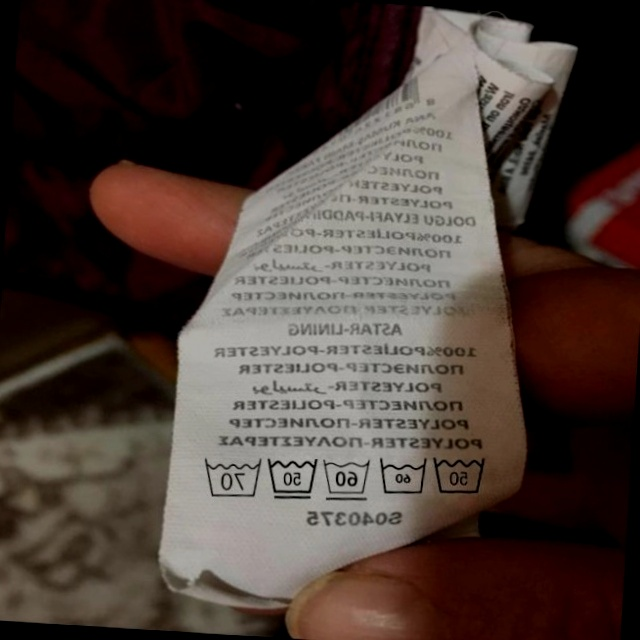50C: (427, 447, 492, 501), (262, 452, 321, 504)
60C: (317, 452, 373, 503), (373, 452, 430, 501)
70C: (196, 453, 263, 502)
